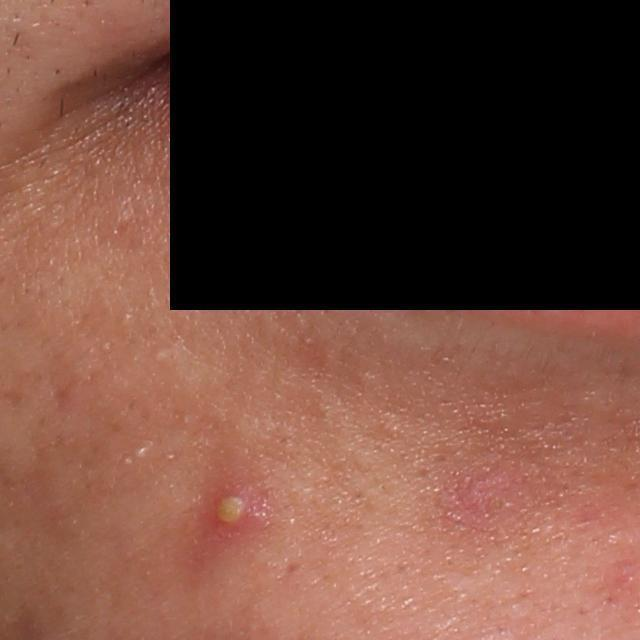pustule: (204, 474, 256, 534)
